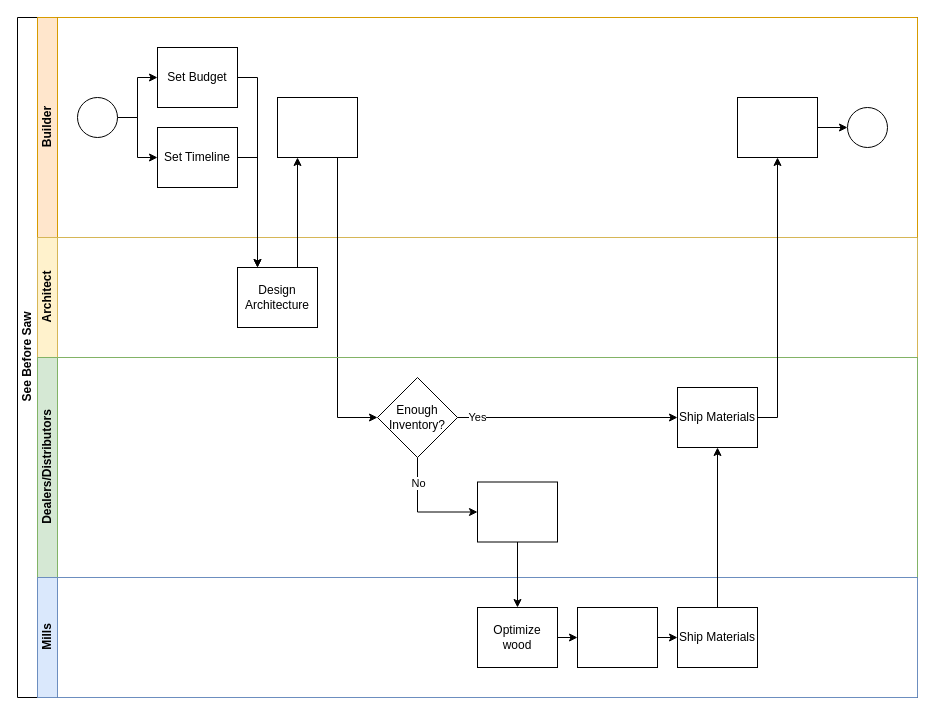
This 935x715 diagram has some shape labels left out. Here are the shapes that lost their labels. From the top down, the centre of each, then its label:
At [97,117]: "start".
At [317,127]: "Order Material List".
At [777,127]: "Organize Teams".
At [867,127]: "end".
At [517,511]: "Order Materials".
At [617,637]: "Cut wood".
